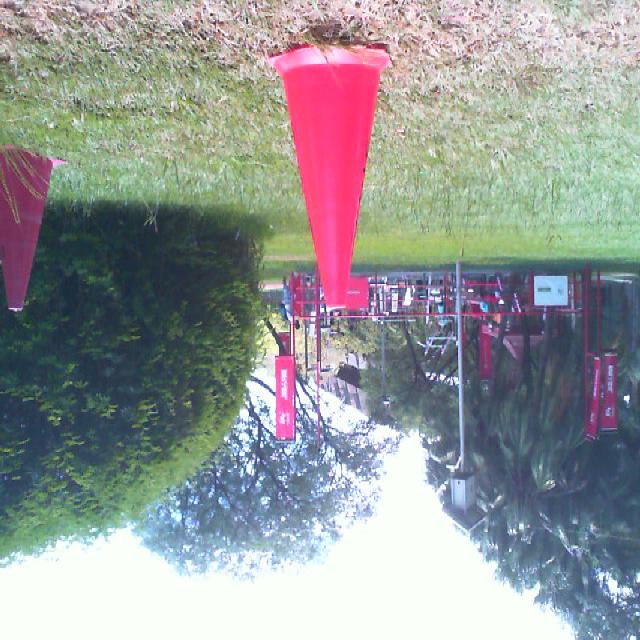cone: (268, 44, 394, 309), (0, 140, 69, 309)
